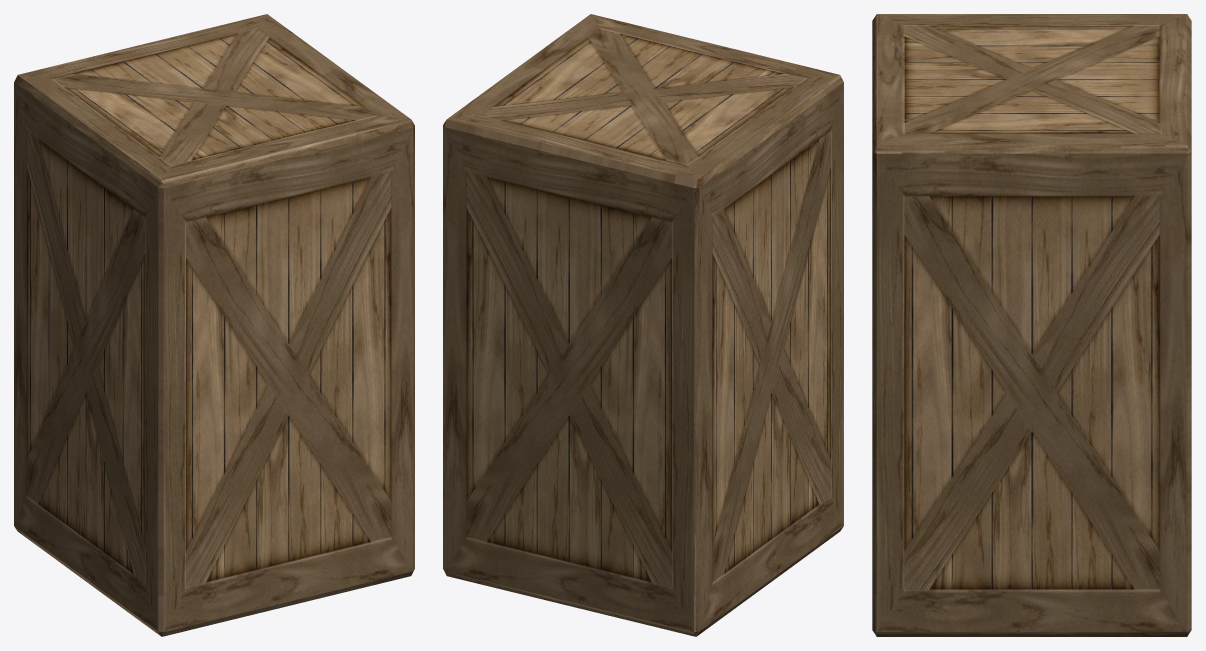
The model's file is largeBox.fbx.
The picture shows the model from 3 angles, left to right: view 1: azimuth 30°, elevation 25°; view 2: azimuth 150°, elevation 25°; view 3: azimuth 270°, elevation 25°; orthographic projection. The views are drawn at different scales.
Parts seen in each view (by area): view 1: Cube.095; view 2: Cube.095; view 3: Cube.095.
Boxes of the visible parts, <box> form: Cube.095: <box>14,14,414,636</box>; Cube.095: <box>443,14,843,636</box>; Cube.095: <box>872,14,1191,636</box>.
Bounding box in the file's own units: 100 × 170 × 100.
